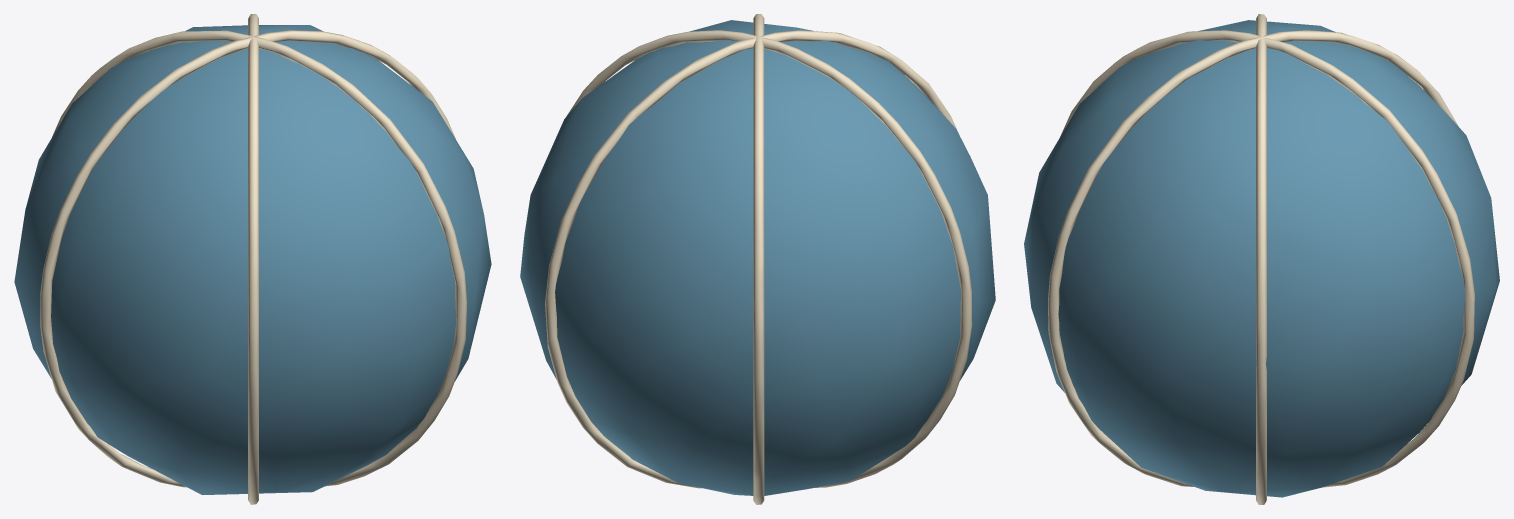
Rendered from ball.glb.
The picture shows the model from 3 angles, left to right: view 1: azimuth 30°, elevation 25°; view 2: azimuth 150°, elevation 25°; view 3: azimuth 270°, elevation 25°; orthographic projection.
Parts seen in each view (by area): view 1: Crafted_blue, Crafted_cream; view 2: Crafted_blue, Crafted_cream; view 3: Crafted_blue, Crafted_cream.
Boxes of the visible parts, <box> form: Crafted_blue: <box>14,25,491,494</box>; Crafted_cream: <box>40,14,467,504</box>; Crafted_blue: <box>520,20,995,495</box>; Crafted_cream: <box>545,14,972,504</box>; Crafted_blue: <box>1024,20,1499,497</box>; Crafted_cream: <box>1048,14,1474,504</box>.
Size of the model in its own units: 0.534 by 0.5348 by 0.5188.
